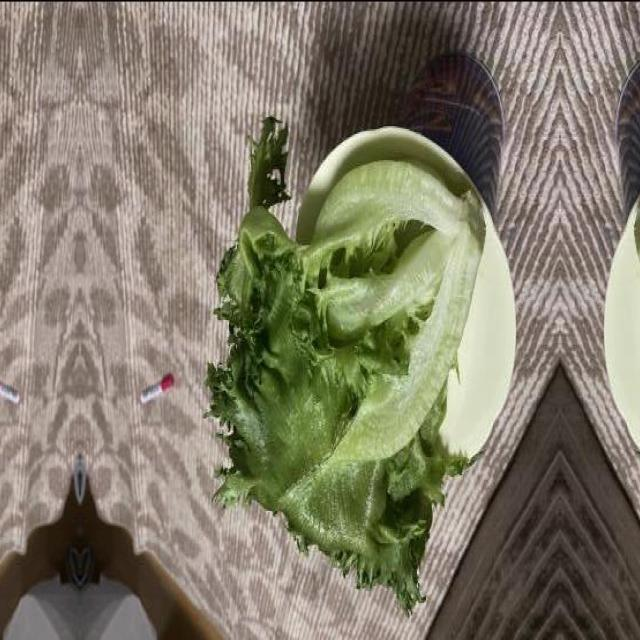healthy: (197, 154, 488, 612), (631, 154, 640, 612)
